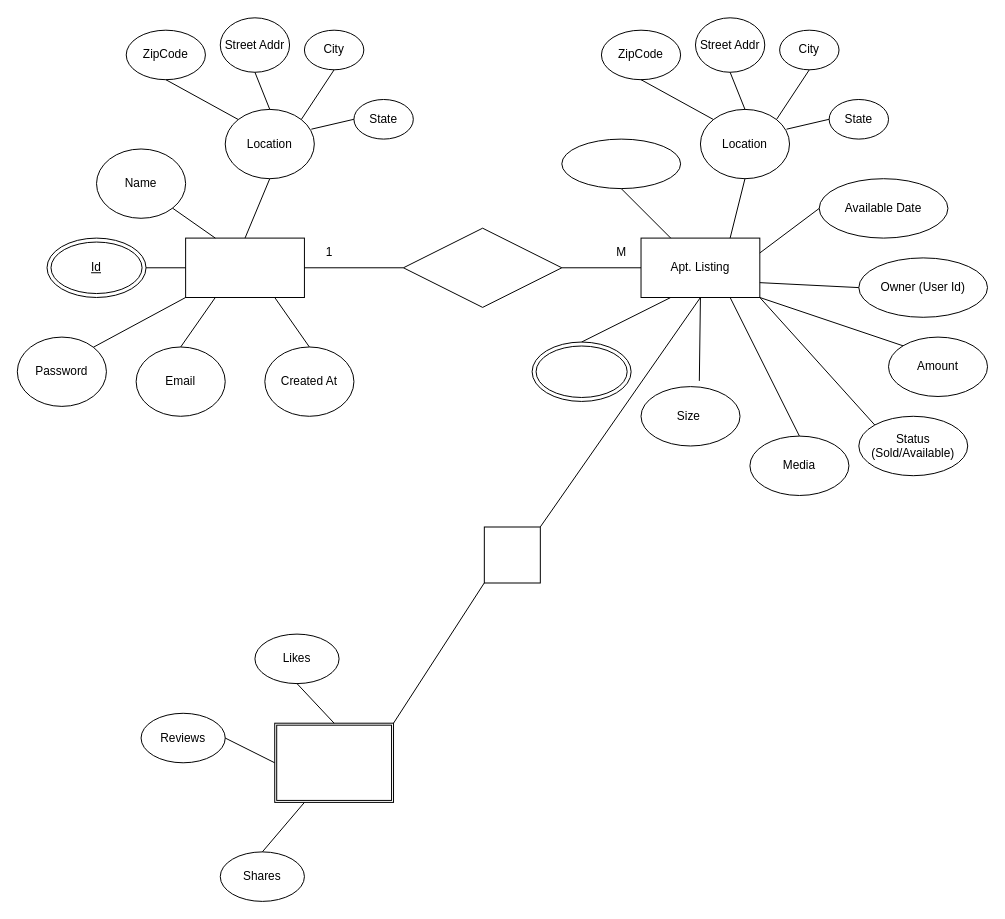
The diagram is 1005 pixels wide and 919 high, and some of its shapes have lost their labels. The shapes that lost their labels are listed below. From the top down, each one's centre as x and y in pixels, then its label:
point (621, 163): Description
point (244, 267): User
point (482, 267): Posts
point (581, 371): Listing Id
point (512, 554): Gets
point (334, 762): Reactions
